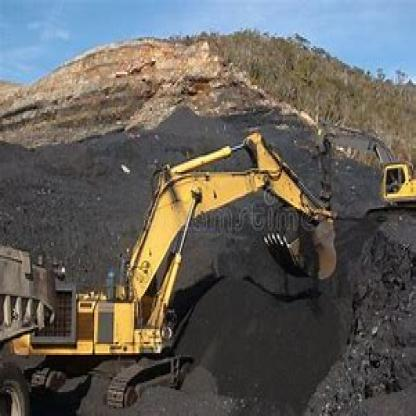excavator: (55, 117, 355, 403)
